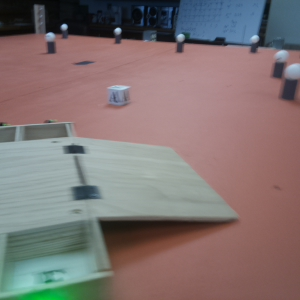blockA: (102, 81, 134, 109)
corner: (32, 6, 45, 33)
obstacle: (285, 61, 299, 103), (240, 33, 262, 53), (176, 31, 190, 60), (271, 51, 284, 76), (46, 32, 58, 56), (111, 27, 126, 45)
side: (1, 215, 110, 290), (4, 112, 77, 141)
slope: (62, 142, 234, 214)
start: (71, 57, 95, 68)
